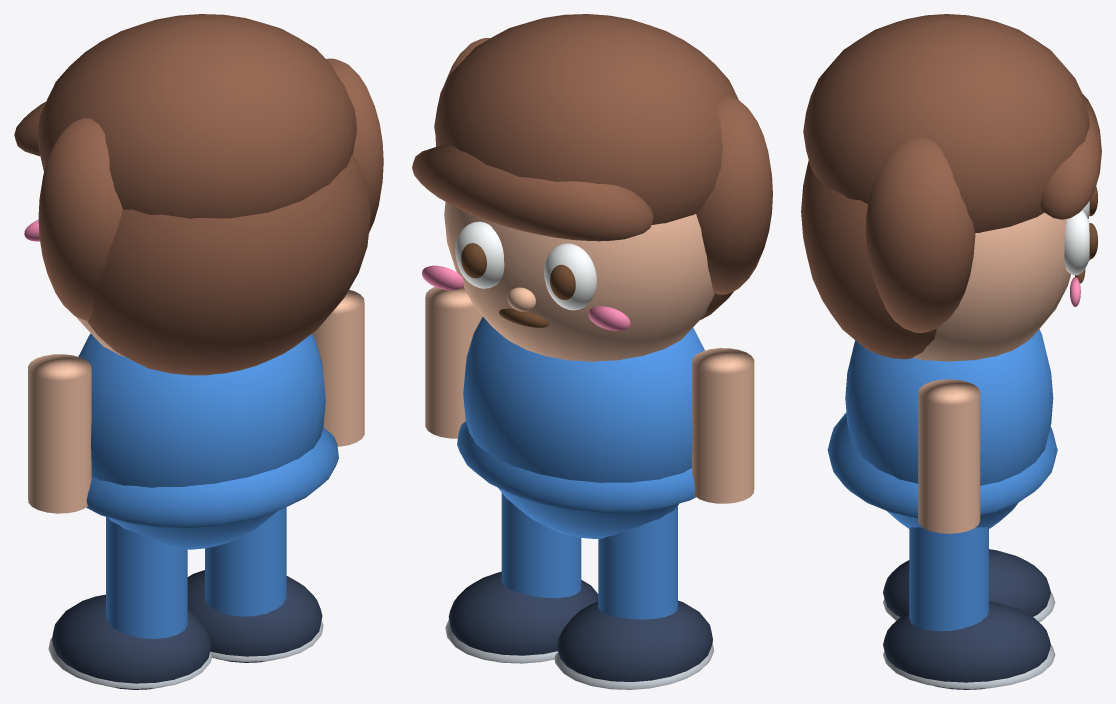
Rendered from female.gltf.
3 renders of one model, left to right at view 1: azimuth 30°, elevation 25°; view 2: azimuth 150°, elevation 25°; view 3: azimuth 270°, elevation 25°, orthographic. The views are drawn at different scales.
Visible parts, largest first — view 1: Long hair crown, Long hair back, Torso, Left ponytail, Skirt hem, Left arm, Left shoe, Left leg, Right leg, Right shoe, Right arm, Right ponytail (+3 smaller); view 2: Long hair crown, Torso, Head, Hair fringe, Left ponytail, Left arm, Left shoe, Right shoe, Left leg, Skirt hem, Right arm, Right leg (+10 smaller); view 3: Long hair crown, Torso, Right ponytail, Head, Long hair back, Right arm, Right shoe, Right leg, Skirt hem, Left shoe, Hair fringe, Right eye white (+1 smaller).
Part boxes in pixels (left/top/right/bottom): Long hair crown: left=37, top=14, right=356, bottom=218; Long hair back: left=87, top=154, right=371, bottom=375; Torso: left=78, top=333, right=325, bottom=549; Left ponytail: left=38, top=118, right=122, bottom=320; Skirt hem: left=86, top=427, right=338, bottom=527; Left arm: left=28, top=354, right=91, bottom=513; Left shoe: left=52, top=594, right=211, bottom=689; Left leg: left=106, top=517, right=187, bottom=638; Right leg: left=205, top=507, right=286, bottom=616; Right shoe: left=187, top=570, right=322, bottom=662; Right arm: left=312, top=289, right=364, bottom=446; Right ponytail: left=326, top=58, right=383, bottom=232; Long hair crown: left=434, top=14, right=738, bottom=224; Torso: left=463, top=317, right=704, bottom=538; Head: left=444, top=202, right=714, bottom=361; Hair fringe: left=412, top=145, right=653, bottom=241; Left ponytail: left=696, top=95, right=772, bottom=294; Left arm: left=692, top=348, right=754, bottom=503; Left shoe: left=557, top=600, right=712, bottom=681; Right shoe: left=448, top=571, right=598, bottom=655; Left leg: left=598, top=506, right=677, bottom=619; Skirt hem: left=457, top=421, right=695, bottom=512; Right arm: left=425, top=286, right=482, bottom=438; Right leg: left=501, top=493, right=581, bottom=598; Long hair crown: left=803, top=14, right=1089, bottom=232; Torso: left=845, top=329, right=1053, bottom=528; Right ponytail: left=866, top=137, right=975, bottom=332; Head: left=913, top=212, right=1070, bottom=361; Long hair back: left=801, top=160, right=936, bottom=359; Right arm: left=918, top=379, right=980, bottom=533; Right shoe: left=883, top=601, right=1050, bottom=689; Right leg: left=909, top=527, right=988, bottom=631; Skirt hem: left=827, top=413, right=1057, bottom=518; Left shoe: left=883, top=549, right=1050, bottom=617; Hair fringe: left=1040, top=94, right=1101, bottom=219; Right eye white: left=1064, top=210, right=1089, bottom=275.
Size of the model in its own units: 1.66 by 3.07 by 1.36.
